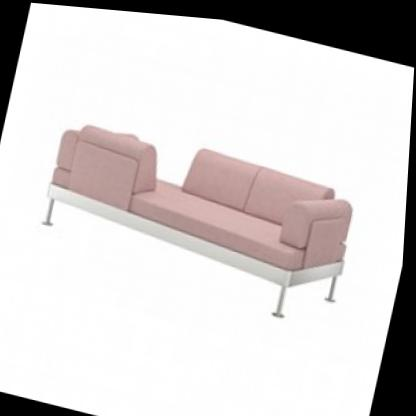Sofa: (17, 71, 379, 340)
